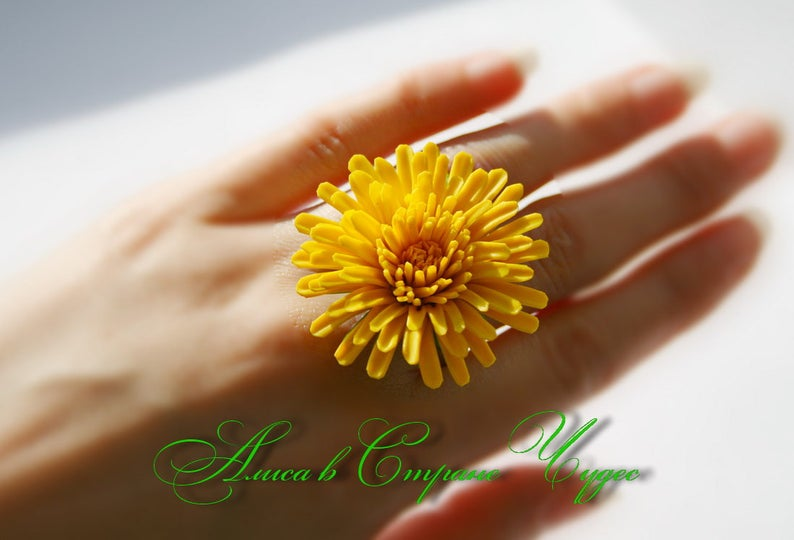dandelion: (280, 149, 566, 353)
